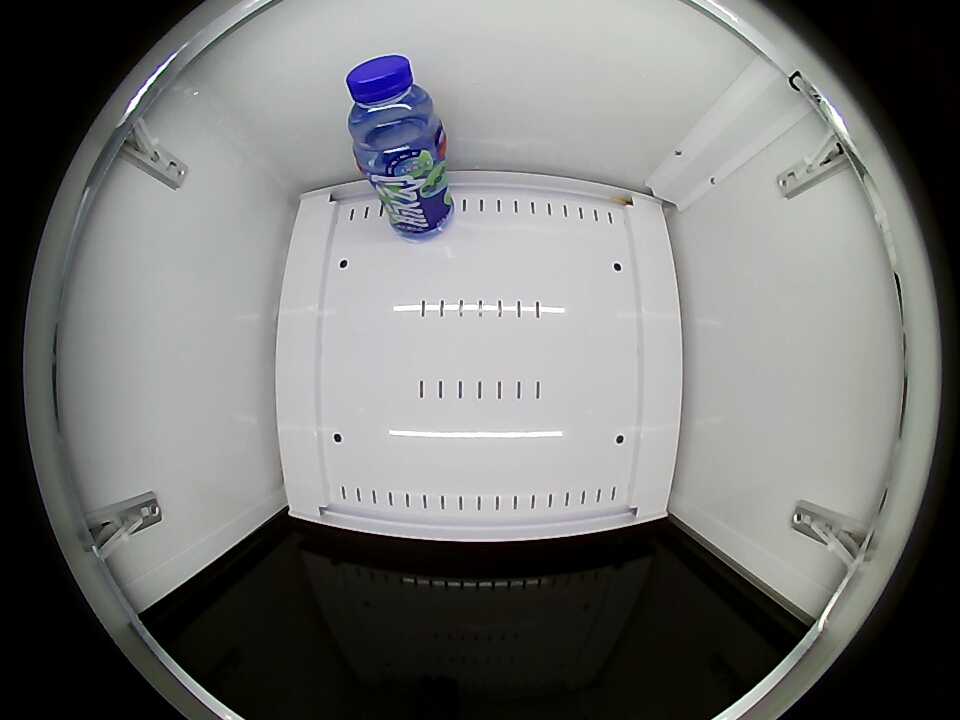maidong: (345, 53, 440, 163)
